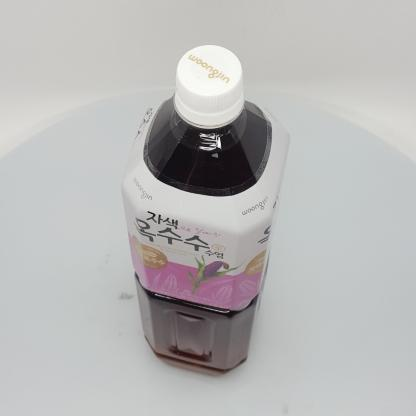----------1-5L: (121, 45, 290, 376)
